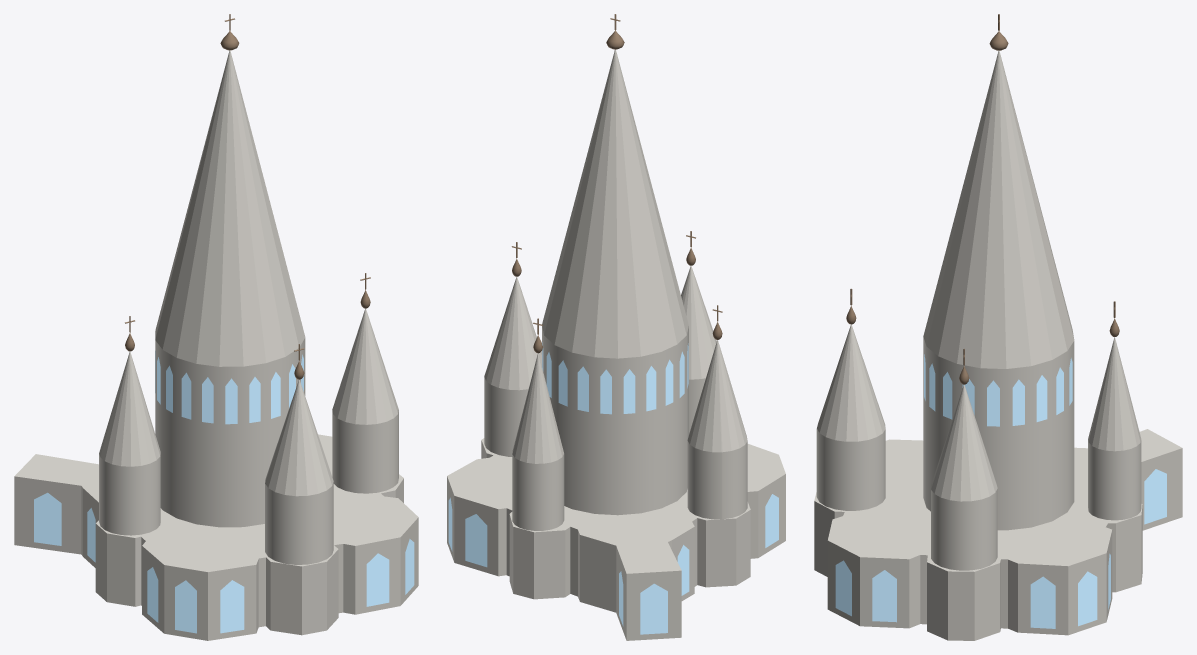
3 renders of one model, left to right at view 1: azimuth 30°, elevation 25°; view 2: azimuth 150°, elevation 25°; view 3: azimuth 270°, elevation 25°, orthographic. The views are drawn at different scales.
Parts seen in each view (by area): view 1: stone, window, metal; view 2: stone, window, metal; view 3: stone, window, metal.
Boxes of the visible parts, x1,y1,x2,y2 form: stone: (14,50,418,640); window: (34,351,414,633); metal: (125,14,370,379); stone: (447,49,785,640); window: (448,342,778,634); metal: (511,14,722,353); stone: (814,50,1182,640); window: (835,354,1166,628); metal: (846,14,1119,384).
Bounding box in the file's own units: 26.59 × 48 × 28.97.
